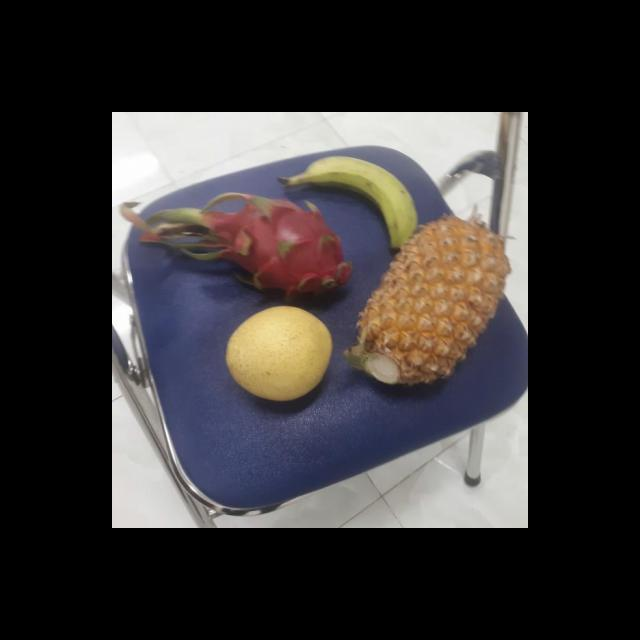banana: (297, 158, 421, 253)
pear: (234, 304, 334, 404)
pineapple: (352, 220, 511, 388)
pitaya: (212, 198, 356, 310)
